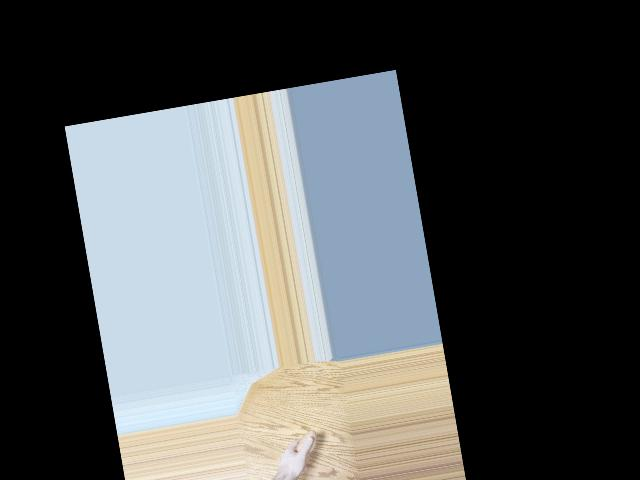sweet_potato: (272, 428, 327, 480)
